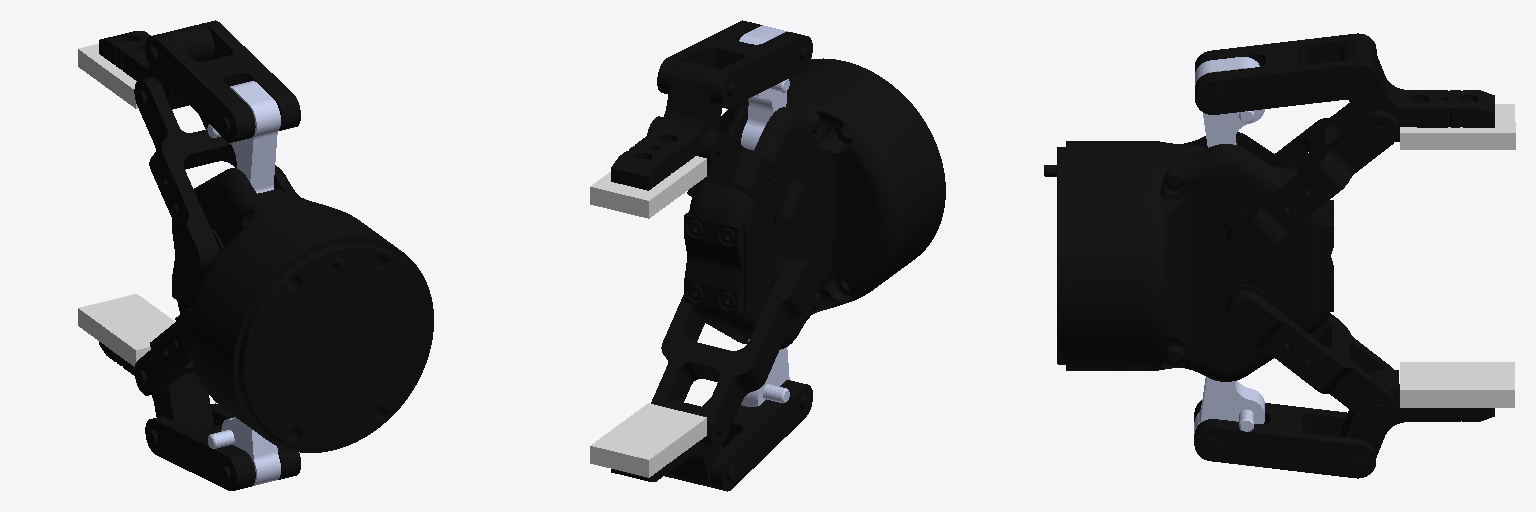
--- What the picture shows (computed from the rendered views, not written in the file) ---
3 views of the same robot in one strip: view 1: azimuth 30°, elevation 25°; view 2: azimuth 150°, elevation 25°; view 3: azimuth 270°, elevation 25° (orthographic).
Robot: ur5_robotiq — 23 links, 22 joints (12 revolute, 10 fixed); root link world; default pose: all joints at 0.
Visible links, largest first — view 1: robotiq_arg2f_base_link, left_outer_finger, left_inner_knuckle, right_outer_finger, right_inner_finger_pad, left_outer_knuckle, left_inner_finger, right_inner_knuckle, right_inner_finger, right_outer_knuckle, left_inner_finger_pad; view 2: robotiq_arg2f_base_link, right_inner_knuckle, left_outer_finger, left_inner_finger, left_inner_knuckle, right_inner_finger_pad, right_outer_finger, left_inner_finger_pad, right_inner_finger, left_outer_knuckle, right_outer_knuckle; view 3: robotiq_arg2f_base_link, left_inner_knuckle, left_outer_finger, right_inner_knuckle, right_outer_finger, left_inner_finger, right_inner_finger_pad, left_inner_finger_pad, right_inner_finger, right_outer_knuckle, left_outer_knuckle.
Link boxes in pixels (x1,y1,x2,y2): robotiq_arg2f_base_link: (172, 165, 433, 452); left_outer_finger: (145, 20, 300, 142); left_inner_knuckle: (134, 77, 236, 273); right_outer_finger: (145, 403, 300, 490); right_inner_finger_pad: (78, 294, 174, 366); left_outer_knuckle: (207, 81, 280, 193); left_inner_finger: (99, 24, 214, 109); right_inner_knuckle: (135, 308, 195, 395); right_inner_finger: (99, 342, 213, 429); right_outer_knuckle: (208, 417, 280, 485); left_inner_finger_pad: (78, 44, 137, 108); robotiq_arg2f_base_link: (684, 58, 945, 349); right_inner_knuckle: (651, 258, 816, 447); left_outer_finger: (657, 20, 812, 108); left_inner_finger: (611, 60, 721, 190); left_inner_knuckle: (647, 116, 816, 227); right_inner_finger_pad: (590, 403, 706, 477); right_outer_finger: (665, 380, 812, 491); left_inner_finger_pad: (590, 156, 706, 218); right_inner_finger: (611, 400, 723, 487); left_outer_knuckle: (739, 25, 789, 150); right_outer_knuckle: (741, 339, 789, 406); robotiq_arg2f_base_link: (1044, 132, 1333, 381); left_inner_knuckle: (1227, 103, 1397, 262); left_outer_finger: (1195, 33, 1376, 114); right_inner_knuckle: (1227, 290, 1397, 426); right_outer_finger: (1194, 400, 1375, 478); left_inner_finger: (1340, 40, 1494, 141); right_inner_finger_pad: (1400, 362, 1514, 407); left_inner_finger_pad: (1400, 104, 1515, 149); right_inner_finger: (1339, 370, 1494, 457); right_outer_knuckle: (1194, 377, 1264, 433); left_outer_knuckle: (1195, 57, 1264, 147).
Bounding box of the posed robot: 0.075 × 0.1531 × 0.1484 m (x, y, z).
Meshes: 12 distinct files referenced, 9 mesh visuals loaded (5 Collada DAE); not drawn: 7 (reference not matched to a file when rendering).

The robot description file, URDF, robot "ur5_robotiq":
<?xml version="1.0" encoding="utf-8"?>
<!-- =================================================================================== -->
<!-- |    This document was autogenerated by xacro from [local-path]/dynamic_grasping/updated/dynamic_grasping_ws/src/ur5_robotiq_meta_package/ur5_robotiq_description/urdf/ur5_robotiq.xacro | -->
<!-- |    EDITING THIS FILE BY HAND IS NOT RECOMMENDED                                 | -->
<!-- =================================================================================== -->
<robot name="ur5_robotiq">
  <!-- measured from model -->
  <link name="base_link">
    <visual>
      <origin rpy="0 0 3.14159265359" xyz="0 0 0"/>
      <geometry>
        <mesh filename="visual/base.dae"/>
      </geometry>
      <material name="LightGrey">
        <color rgba="0.7 0.7 0.7 1.0"/>
      </material>
    </visual>
    <collision>
      <origin rpy="0 0 3.14159265359" xyz="0 0 0"/>
      <geometry>
        <mesh filename="collision/base.stl"/>
      </geometry>
    </collision>
    <inertial>
      <mass value="4.0"/>
      <origin rpy="0 0 0" xyz="0.0 0.0 0.0"/>
      <inertia ixx="0.00443333156" ixy="0.0" ixz="0.0" iyy="0.00443333156" iyz="0.0" izz="0.0072"/>
    </inertial>
  </link>
  <joint name="shoulder_pan_joint" type="revolute">
    <parent link="base_link"/>
    <child link="shoulder_link"/>
    <origin rpy="0 0 3.14159265359" xyz="0 0 0.089159"/>
    <axis xyz="0 0 1"/>
<!--    <limit effort="150.0" lower="-6.28318530718" upper="6.28318530718" velocity="3.15"/>-->
    <limit effort="150.0" lower="1" upper="0" velocity="3.15"/>
    <dynamics damping="0.0" friction="0.0"/>
  </joint>
  <link name="shoulder_link">
    <visual>
      <origin rpy="0 0 3.14159265359" xyz="0 0 0"/>
      <geometry>
        <mesh filename="visual/shoulder.dae"/>
      </geometry>
      <material name="LightGrey">
        <color rgba="0.7 0.7 0.7 1.0"/>
      </material>
    </visual>
    <collision>
      <origin rpy="0 0 3.14159265359" xyz="0 0 0"/>
      <geometry>
        <mesh filename="collision/shoulder.stl"/>
      </geometry>
    </collision>
    <inertial>
      <mass value="3.7"/>
      <origin rpy="0 0 0" xyz="0.0 0.0 0.0"/>
      <inertia ixx="0.0149723523444" ixy="0.0" ixz="0.0" iyy="0.0149723523444" iyz="0.0" izz="0.01040625"/>
    </inertial>
  </link>
  <joint name="shoulder_lift_joint" type="revolute">
    <parent link="shoulder_link"/>
    <child link="upper_arm_link"/>
    <origin rpy="1.570796327 0 0" xyz="0 0 0"/>
    <axis xyz="0 0 1"/>
<!--    <limit effort="150.0" lower="-6.28318530718" upper="6.28318530718" velocity="3.15"/>-->
    <limit effort="150.0" lower="1" upper="0" velocity="3.15"/>
    <dynamics damping="0.0" friction="0.0"/>
  </joint>
  <link name="upper_arm_link">
    <visual>
      <origin rpy="1.57079632679 0 -1.57079632679" xyz="0 0 0.136"/>
      <geometry>
        <mesh filename="visual/upperarm.dae"/>
      </geometry>
      <material name="LightGrey">
        <color rgba="0.7 0.7 0.7 1.0"/>
      </material>
    </visual>
    <collision>
      <origin rpy="1.57079632679 0 -1.57079632679" xyz="0 0 0.136"/>
      <geometry>
        <mesh filename="collision/upperarm.stl"/>
      </geometry>
    </collision>
    <inertial>
      <mass value="8.393"/>
      <origin rpy="0 1.57079632679 0" xyz="-0.2125 0.0 0.136"/>
      <inertia ixx="0.133885781862" ixy="0.0" ixz="0.0" iyy="0.133885781862" iyz="0.0" izz="0.0151074"/>
    </inertial>
  </link>
  <joint name="elbow_joint" type="revolute">
    <parent link="upper_arm_link"/>
    <child link="forearm_link"/>
    <origin rpy="0 0 0" xyz="-0.425 0 0"/>
    <axis xyz="0 0 1"/>
<!--    <limit effort="150.0" lower="-3.14159265359" upper="3.14159265359" velocity="3.15"/>-->
    <limit effort="150.0" lower="1" upper="0" velocity="3.15"/>
    <dynamics damping="0.0" friction="0.0"/>
  </joint>
  <link name="forearm_link">
    <visual>
      <origin rpy="1.57079632679 0 -1.57079632679" xyz="0 0 0.0165"/>
      <geometry>
        <mesh filename="visual/forearm.dae"/>
      </geometry>
      <material name="LightGrey">
        <color rgba="0.7 0.7 0.7 1.0"/>
      </material>
    </visual>
    <collision>
      <origin rpy="1.57079632679 0 -1.57079632679" xyz="0 0 0.0165"/>
      <geometry>
        <mesh filename="collision/forearm.stl"/>
      </geometry>
    </collision>
    <inertial>
      <mass value="2.275"/>
      <origin rpy="0 1.57079632679 0" xyz="-0.2125 0.0 0.0165"/>
      <inertia ixx="0.0312167910289" ixy="0.0" ixz="0.0" iyy="0.0312167910289" iyz="0.0" izz="0.004095"/>
    </inertial>
  </link>
  <joint name="wrist_1_joint" type="revolute">
    <parent link="forearm_link"/>
    <child link="wrist_1_link"/>
    <origin rpy="0 0 0" xyz="-0.39225 0 0.10915"/>
    <axis xyz="0 0 1"/>
<!--    <limit effort="28.0" lower="-6.28318530718" upper="6.28318530718" velocity="3.2"/>-->
    <limit effort="28.0" lower="1" upper="0" velocity="3.2"/>
    <dynamics damping="0.0" friction="0.0"/>
  </joint>
  <link name="wrist_1_link">
    <visual>
      <origin rpy="1.57079632679 0 0" xyz="0 0 -0.093"/>
      <geometry>
        <mesh filename="visual/wrist1.dae"/>
      </geometry>
      <material name="LightGrey">
        <color rgba="0.7 0.7 0.7 1.0"/>
      </material>
    </visual>
    <collision>
      <origin rpy="1.57079632679 0 0" xyz="0 0 -0.093"/>
      <geometry>
        <mesh filename="collision/wrist1.stl"/>
      </geometry>
    </collision>
    <inertial>
      <mass value="1.219"/>
      <origin rpy="0 0 0" xyz="0.0 0.0 0.0"/>
      <inertia ixx="0.00262426443592" ixy="0.0" ixz="0.0" iyy="0.00262426443592" iyz="0.0" izz="0.0034284375"/>
    </inertial>
  </link>
  <joint name="wrist_2_joint" type="revolute">
    <parent link="wrist_1_link"/>
    <child link="wrist_2_link"/>
    <origin rpy="1.570796327 0 0" xyz="0 -0.09465 -1.9413039509e-11"/>
    <axis xyz="0 0 1"/>
<!--    <limit effort="28.0" lower="-6.28318530718" upper="6.28318530718" velocity="3.2"/>-->
    <limit effort="28.0" lower="1" upper="0" velocity="3.2"/>
    <dynamics damping="0.0" friction="0.0"/>
  </joint>
  <link name="wrist_2_link">
    <visual>
      <origin rpy="0 0 0" xyz="0 0 -0.095"/>
      <geometry>
        <mesh filename="visual/wrist2.dae"/>
      </geometry>
      <material name="LightGrey">
        <color rgba="0.7 0.7 0.7 1.0"/>
      </material>
    </visual>
    <collision>
      <origin rpy="0 0 0" xyz="0 0 -0.095"/>
      <geometry>
        <mesh filename="collision/wrist2.stl"/>
      </geometry>
    </collision>
    <inertial>
      <mass value="1.219"/>
      <origin rpy="0 0 0" xyz="0.0 0.0 0.0"/>
      <inertia ixx="0.00178515266177" ixy="0.0" ixz="0.0" iyy="0.00178515266177" iyz="0.0" izz="0.0021942"/>
    </inertial>
  </link>
  <joint name="wrist_3_joint" type="revolute">
    <parent link="wrist_2_link"/>
    <child link="wrist_3_link"/>
    <origin rpy="1.57079632659 3.14159265359 3.14159265359" xyz="0 0.0823 -1.68800121668e-11"/>
    <axis xyz="0 0 1"/>
<!--    <limit effort="28.0" lower="-6.28318530718" upper="6.28318530718" velocity="3.2"/>-->
    <limit effort="28.0" lower="1" upper="0" velocity="3.2"/>
    <dynamics damping="0.0" friction="0.0"/>
  </joint>
  <link name="wrist_3_link">
    <visual>
      <origin rpy="1.57079632679 0 0" xyz="0 0 -0.0818"/>
      <geometry>
        <mesh filename="visual/wrist3.dae"/>
      </geometry>
      <material name="LightGrey">
        <color rgba="0.7 0.7 0.7 1.0"/>
      </material>
    </visual>
    <collision>
      <origin rpy="1.57079632679 0 0" xyz="0 0 -0.0823"/>
      <geometry>
        <mesh filename="collision/wrist3.stl"/>
      </geometry>
    </collision>
    <inertial>
      <mass value="0.1879"/>
      <origin rpy="0 0 0" xyz="0.0 0.0 -0.01525"/>
      <inertia ixx="8.06247260834e-05" ixy="0.0" ixz="0.0" iyy="8.06247260834e-05" iyz="0.0" izz="0.0001321171875"/>
    </inertial>
  </link>
  <joint name="ee_fixed_joint" type="fixed">
    <parent link="wrist_3_link"/>
    <child link="ee_link"/>
    <origin rpy="0.0 -1.57079632679 1.57079632679" xyz="0.0 0.0 0.0"/>
  </joint>
  <link name="ee_link">
    <collision>
      <geometry>
        <box size="0.01 0.01 0.01"/>
      </geometry>
      <origin rpy="0 0 0" xyz="-0.01 0 0"/>
    </collision>
  </link>
  <joint name="wrist_3_passive_joint" type="fixed">
    <origin rpy="0 0 0" xyz="0 0 0"/>
    <parent link="wrist_3_link"/>
    <child link="tool0"/>
  </joint>
  <transmission name="shoulder_pan_trans">
    <type>transmission_interface/SimpleTransmission</type>
    <joint name="shoulder_pan_joint">
      <hardwareInterface>hardware_interface/PositionJointInterface</hardwareInterface>
    </joint>
    <actuator name="shoulder_pan_motor">
      <mechanicalReduction>1</mechanicalReduction>
    </actuator>
  </transmission>
  <transmission name="shoulder_lift_trans">
    <type>transmission_interface/SimpleTransmission</type>
    <joint name="shoulder_lift_joint">
      <hardwareInterface>hardware_interface/PositionJointInterface</hardwareInterface>
    </joint>
    <actuator name="shoulder_lift_motor">
      <mechanicalReduction>1</mechanicalReduction>
    </actuator>
  </transmission>
  <transmission name="elbow_trans">
    <type>transmission_interface/SimpleTransmission</type>
    <joint name="elbow_joint">
      <hardwareInterface>hardware_interface/PositionJointInterface</hardwareInterface>
    </joint>
    <actuator name="elbow_motor">
      <mechanicalReduction>1</mechanicalReduction>
    </actuator>
  </transmission>
  <transmission name="wrist_1_trans">
    <type>transmission_interface/SimpleTransmission</type>
    <joint name="wrist_1_joint">
      <hardwareInterface>hardware_interface/PositionJointInterface</hardwareInterface>
    </joint>
    <actuator name="wrist_1_motor">
      <mechanicalReduction>1</mechanicalReduction>
    </actuator>
  </transmission>
  <transmission name="wrist_2_trans">
    <type>transmission_interface/SimpleTransmission</type>
    <joint name="wrist_2_joint">
      <hardwareInterface>hardware_interface/PositionJointInterface</hardwareInterface>
    </joint>
    <actuator name="wrist_2_motor">
      <mechanicalReduction>1</mechanicalReduction>
    </actuator>
  </transmission>
  <transmission name="wrist_3_trans">
    <type>transmission_interface/SimpleTransmission</type>
    <joint name="wrist_3_joint">
      <hardwareInterface>hardware_interface/PositionJointInterface</hardwareInterface>
    </joint>
    <actuator name="wrist_3_motor">
      <mechanicalReduction>1</mechanicalReduction>
    </actuator>
  </transmission>
  <gazebo reference="shoulder_link">
    <selfCollide>true</selfCollide>
  </gazebo>
  <gazebo reference="upper_arm_link">
    <selfCollide>true</selfCollide>
  </gazebo>
  <gazebo reference="forearm_link">
    <selfCollide>true</selfCollide>
  </gazebo>
  <gazebo reference="wrist_1_link">
    <selfCollide>true</selfCollide>
  </gazebo>
  <gazebo reference="wrist_3_link">
    <selfCollide>true</selfCollide>
  </gazebo>
  <gazebo reference="wrist_2_link">
    <selfCollide>true</selfCollide>
  </gazebo>
  <gazebo reference="ee_link">
    <selfCollide>true</selfCollide>
  </gazebo>
  <!-- ROS base_link to UR 'Base' Coordinates transform -->
  <link name="base"/>
  <joint name="base_link-base_fixed_joint" type="fixed">
    <!-- NOTE: this rotation is only needed as long as base_link itself is
                 not corrected wrt the real robot (ie: rotated over 180
                 degrees)
      -->
    <origin rpy="0 0 -3.14159265359" xyz="0 0 0"/>
    <parent link="base_link"/>
    <child link="base"/>
  </joint>
  <!-- Frame coincident with all-zeros TCP on UR controller -->
  <link name="tool0"/>
  <link name="world"/>
  <joint name="world_joint" type="fixed">
    <parent link="world"/>
    <child link="base_link"/>
    <origin rpy="0.0 0.0 0.0" xyz="0.0 0.0 0.0"/>
  </joint>
  <link name="robotiq_arg2f_base_link">
    <inertial>
      <origin rpy="0 0 0" xyz="8.625E-08 -4.6583E-06 0.03145"/>
      <mass value="0.22652"/>
      <inertia ixx="0.00020005" ixy="-4.2442E-10" ixz="-2.9069E-10" iyy="0.00017832" iyz="-3.4402E-08" izz="0.00013478"/>
    </inertial>
    <visual>
      <origin rpy="0 0 0" xyz="0 0 0"/>
      <geometry>
        <mesh filename="gripper/meshes/visual/robotiq_arg2f_85_base_link.dae" scale="0.001 0.001 0.001"/>
      </geometry>
      <material name="">
        <color rgba="0.1 0.1 0.1 1"/>
      </material>
    </visual>
    <collision>
      <origin rpy="0 0 0" xyz="0 0 0"/>
      <geometry>
        <mesh filename="gripper/meshes/collision/robotiq_arg2f_base_link.stl"/>
      </geometry>
    </collision>
  </link>
  <link name="left_outer_knuckle">
    <!--<inertial>
        <origin xyz="-0.000200000000003065 0.0199435877845359 0.0292245259211331" rpy="0 0 0" />
        <mass value="0.00853198276973456" />
        <inertia ixx="2.89328108496468E-06" ixy="-1.57935047237397E-19" ixz="-1.93980378593255E-19" iyy="1.86719750325683E-06" iyz="-1.21858577871576E-06" izz="1.21905238907251E-06" />
        </inertial> -->
    <visual>
      <origin rpy="0 0 0" xyz="0 0 0"/>
      <geometry>
        <mesh filename="gripper/meshes/visual/robotiq_arg2f_85_outer_knuckle.dae" scale="0.001 0.001 0.001"/>
      </geometry>
      <material name="">
        <color rgba="0.792156862745098 0.819607843137255 0.933333333333333 1"/>
      </material>
    </visual>
    <collision>
      <origin rpy="0 0 0" xyz="0 0 0"/>
      <geometry>
        <mesh filename="gripper/meshes/collision/robotiq_arg2f_85_outer_knuckle.dae" scale="0.001 0.001 0.001"/>
      </geometry>
    </collision>
  </link>
  <link name="left_outer_finger">
    <!--<inertial>
        <origin xyz="0.00030115855001899 0.0373907951953854 -0.0208027427000385" rpy="0 0 0" />
        <mass value="0.022614240507152" />
        <inertia ixx="1.52518312458174E-05" ixy="9.76583423954399E-10" ixz="-5.43838577022588E-10" iyy="6.17694243867776E-06" iyz="6.78636130740228E-06" izz="1.16494917907219E-05" />
        </inertial> -->
    <visual>
      <origin rpy="0 0 0" xyz="0 0 0"/>
      <geometry>
        <mesh filename="gripper/meshes/visual/robotiq_arg2f_85_outer_finger.dae" scale="0.001 0.001 0.001"/>
      </geometry>
      <material name="">
        <color rgba="0.1 0.1 0.1 1"/>
      </material>
    </visual>
    <collision>
      <origin rpy="0 0 0" xyz="0 0 0"/>
      <geometry>
        <mesh filename="gripper/meshes/collision/robotiq_arg2f_85_outer_finger.dae" scale="0.001 0.001 0.001"/>
      </geometry>
    </collision>
  </link>
  <link name="left_inner_finger">
    <!--<inertial>
        <origin xyz="0.000299999999999317 0.0160078233491243 -0.0136945669206257" rpy="0 0 0" />
        <mass value="0.0104003125914103" />
        <inertia ixx="2.71909453810972E-06" ixy="1.35402465472579E-21" ixz="-7.1817349065269E-22" iyy="7.69100314106116E-07" iyz="6.74715432769696E-07" izz="2.30315190420171E-06" />
        </inertial> -->
    <visual>
      <origin rpy="0 0 0" xyz="0 0 0"/>
      <geometry>
        <mesh filename="gripper/meshes/visual/robotiq_arg2f_85_inner_finger.dae" scale="0.001 0.001 0.001"/>
      </geometry>
      <material name="">
        <color rgba="0.1 0.1 0.1 1"/>
      </material>
    </visual>
    <collision>
      <origin rpy="0 0 0" xyz="0 0 0"/>
      <geometry>
        <mesh filename="gripper/meshes/collision/robotiq_arg2f_85_inner_finger.dae" scale="0.001 0.001 0.001"/>
      </geometry>
    </collision>
  </link>
  <link name="left_inner_finger_pad">
    <visual>
      <origin rpy="0 0 0" xyz="0 0 0"/>
      <geometry>
        <box size="0.022 0.00635 0.0375"/>
      </geometry>
      <material name="">
        <color rgba="0.9 0.9 0.9 1"/>
      </material>
    </visual>
    <collision>
      <origin rpy="0 0 0" xyz="0 0 0"/>
      <geometry>
        <box size="0.022 0.00635 0.0375"/>
      </geometry>
      <material name="">
        <color rgba="0.9 0.0 0.0 1"/>
      </material>
    </collision>
  </link>
  <link name="left_inner_knuckle">
    <!--<inertial>
        <origin xyz="0.000123011831763771 0.0507850843201817 0.00103968640075166" rpy="0 0 0" />
       <mass value="0.0271177346495152" />
        <inertia ixx="2.61910379223783E-05" ixy="-2.43616858946494E-07" ixz="-6.37789906117123E-09" iyy="2.8270243746167E-06" iyz="-5.37200748039765E-07" izz="2.83695868220296E-05" />
        </inertial> -->
    <visual>
      <origin rpy="0 0 0" xyz="0 0 0"/>
      <geometry>
        <mesh filename="gripper/meshes/visual/robotiq_arg2f_85_inner_knuckle.dae" scale="0.001 0.001 0.001"/>
      </geometry>
      <material name="">
        <color rgba="0.1 0.1 0.1 1"/>
      </material>
    </visual>
    <collision>
      <origin rpy="0 0 0" xyz="0 0 0"/>
      <geometry>
        <mesh filename="gripper/meshes/collision/robotiq_arg2f_85_inner_knuckle.dae" scale="0.001 0.001 0.001"/>
      </geometry>
    </collision>
  </link>
  <link name="right_outer_knuckle">
    <!--<inertial>
        <origin xyz="-0.000200000000003065 0.0199435877845359 0.0292245259211331" rpy="0 0 0" />
        <mass value="0.00853198276973456" />
        <inertia ixx="2.89328108496468E-06" ixy="-1.57935047237397E-19" ixz="-1.93980378593255E-19" iyy="1.86719750325683E-06" iyz="-1.21858577871576E-06" izz="1.21905238907251E-06" />
        </inertial> -->
    <visual>
      <origin rpy="0 0 0" xyz="0 0 0"/>
      <geometry>
        <mesh filename="gripper/meshes/visual/robotiq_arg2f_85_outer_knuckle.dae" scale="0.001 0.001 0.001"/>
      </geometry>
      <material name="">
        <color rgba="0.792156862745098 0.819607843137255 0.933333333333333 1"/>
      </material>
    </visual>
    <collision>
      <origin rpy="0 0 0" xyz="0 0 0"/>
      <geometry>
        <mesh filename="gripper/meshes/collision/robotiq_arg2f_85_outer_knuckle.dae" scale="0.001 0.001 0.001"/>
      </geometry>
    </collision>
  </link>
  <link name="right_outer_finger">
    <!--<inertial>
        <origin xyz="0.00030115855001899 0.0373907951953854 -0.0208027427000385" rpy="0 0 0" />
        <mass value="0.022614240507152" />
        <inertia ixx="1.52518312458174E-05" ixy="9.76583423954399E-10" ixz="-5.43838577022588E-10" iyy="6.17694243867776E-06" iyz="6.78636130740228E-06" izz="1.16494917907219E-05" />
        </inertial> -->
    <visual>
      <origin rpy="0 0 0" xyz="0 0 0"/>
      <geometry>
        <mesh filename="gripper/meshes/visual/robotiq_arg2f_85_outer_finger.dae" scale="0.001 0.001 0.001"/>
      </geometry>
      <material name="">
        <color rgba="0.1 0.1 0.1 1"/>
      </material>
    </visual>
    <collision>
      <origin rpy="0 0 0" xyz="0 0 0"/>
      <geometry>
        <mesh filename="gripper/meshes/collision/robotiq_arg2f_85_outer_finger.dae" scale="0.001 0.001 0.001"/>
      </geometry>
    </collision>
  </link>
  <link name="right_inner_finger">
    <!--<inertial>
        <origin xyz="0.000299999999999317 0.0160078233491243 -0.0136945669206257" rpy="0 0 0" />
        <mass value="0.0104003125914103" />
        <inertia ixx="2.71909453810972E-06" ixy="1.35402465472579E-21" ixz="-7.1817349065269E-22" iyy="7.69100314106116E-07" iyz="6.74715432769696E-07" izz="2.30315190420171E-06" />
        </inertial> -->
    <visual>
      <origin rpy="0 0 0" xyz="0 0 0"/>
      <geometry>
        <mesh filename="gripper/meshes/visual/robotiq_arg2f_85_inner_finger.dae" scale="0.001 0.001 0.001"/>
      </geometry>
      <material name="">
        <color rgba="0.1 0.1 0.1 1"/>
      </material>
    </visual>
    <collision>
      <origin rpy="0 0 0" xyz="0 0 0"/>
      <geometry>
        <mesh filename="gripper/meshes/collision/robotiq_arg2f_85_inner_finger.dae" scale="0.001 0.001 0.001"/>
      </geometry>
    </collision>
  </link>
  <link name="right_inner_finger_pad">
    <visual>
      <origin rpy="0 0 0" xyz="0 0 0"/>
      <geometry>
        <box size="0.022 0.00635 0.0375"/>
      </geometry>
      <material name="">
        <color rgba="0.9 0.9 0.9 1"/>
      </material>
    </visual>
    <collision>
      <origin rpy="0 0 0" xyz="0 0 0"/>
      <geometry>
        <box size="0.022 0.00635 0.0375"/>
      </geometry>
      <material name="">
        <color rgba="0.9 0.0 0.0 1"/>
      </material>
    </collision>
  </link>
  <link name="right_inner_knuckle">
    <!--<inertial>
        <origin xyz="0.000123011831763771 0.0507850843201817 0.00103968640075166" rpy="0 0 0" />
       <mass value="0.0271177346495152" />
        <inertia ixx="2.61910379223783E-05" ixy="-2.43616858946494E-07" ixz="-6.37789906117123E-09" iyy="2.8270243746167E-06" iyz="-5.37200748039765E-07" izz="2.83695868220296E-05" />
        </inertial> -->
    <visual>
      <origin rpy="0 0 0" xyz="0 0 0"/>
      <geometry>
        <mesh filename="gripper/meshes/visual/robotiq_arg2f_85_inner_knuckle.dae" scale="0.001 0.001 0.001"/>
      </geometry>
      <material name="">
        <color rgba="0.1 0.1 0.1 1"/>
      </material>
    </visual>
    <collision>
      <origin rpy="0 0 0" xyz="0 0 0"/>
      <geometry>
        <mesh filename="gripper/meshes/collision/robotiq_arg2f_85_inner_knuckle.dae" scale="0.001 0.001 0.001"/>
      </geometry>
    </collision>
  </link>
  <joint name="finger_joint" type="revolute">
    <origin rpy="0 0 3.14159265359" xyz="0 -0.0306011 0.054904"/>
    <parent link="robotiq_arg2f_base_link"/>
    <child link="left_outer_knuckle"/>
    <axis xyz="1 0 0"/>
    <limit effort="200" lower="0" upper="0.8" velocity="2.0"/>
  </joint>
  <joint name="left_outer_finger_joint" type="fixed">
    <origin rpy="0 0 0" xyz="0 0.0315 -0.0041"/>
    <parent link="left_outer_knuckle"/>
    <child link="left_outer_finger"/>
    <axis xyz="1 0 0"/>
  </joint>
  <joint name="left_inner_knuckle_joint" type="revolute">
    <!-- <origin xyz="0 ${reflect * -0.0127} 0.06142" rpy="${pi / 2 + .725} 0 ${(reflect - 1) * pi / 2}" /> -->
    <origin rpy="0 0 3.14159265359" xyz="0 -0.0127 0.06142"/>
    <parent link="robotiq_arg2f_base_link"/>
    <child link="left_inner_knuckle"/>
    <axis xyz="1 0 0"/>
    <limit effort="200" lower="0" upper="0.8757" velocity="2.0"/>
    <mimic joint="finger_joint" multiplier="1" offset="0"/>
  </joint>
  <joint name="left_inner_finger_joint" type="revolute">
    <origin rpy="0 0 0" xyz="0 0.0061 0.0471"/>
    <parent link="left_outer_finger"/>
    <child link="left_inner_finger"/>
    <axis xyz="1 0 0"/>
    <limit effort="200" lower="-0.8757" upper="0" velocity="2.0"/>
    <mimic joint="finger_joint" multiplier="-1" offset="0"/>
  </joint>
  <joint name="left_inner_finger_pad_joint" type="fixed">
    <origin rpy="0 0 0" xyz="0 -0.0220203446692936 0.03242"/>
    <parent link="left_inner_finger"/>
    <child link="left_inner_finger_pad"/>
    <axis xyz="0 0 1"/>
  </joint>
  <joint name="right_outer_knuckle_joint" type="revolute">
    <origin rpy="0 0 0" xyz="0 0.0306011 0.054904"/>
    <parent link="robotiq_arg2f_base_link"/>
    <child link="right_outer_knuckle"/>
    <axis xyz="1 0 0"/>
    <limit effort="200" lower="0" upper="0.81" velocity="2.0"/>
    <mimic joint="finger_joint" multiplier="1" offset="0"/>
  </joint>
  <joint name="right_outer_finger_joint" type="fixed">
    <origin rpy="0 0 0" xyz="0 0.0315 -0.0041"/>
    <parent link="right_outer_knuckle"/>
    <child link="right_outer_finger"/>
    <axis xyz="1 0 0"/>
  </joint>
  <joint name="right_inner_knuckle_joint" type="revolute">
    <!-- <origin xyz="0 ${reflect * -0.0127} 0.06142" rpy="${pi / 2 + .725} 0 ${(reflect - 1) * pi / 2}" /> -->
    <origin rpy="0 0 0.0" xyz="0 0.0127 0.06142"/>
    <parent link="robotiq_arg2f_base_link"/>
    <child link="right_inner_knuckle"/>
    <axis xyz="1 0 0"/>
    <limit effort="200" lower="0" upper="0.8757" velocity="2.0"/>
    <mimic joint="finger_joint" multiplier="1" offset="0"/>
  </joint>
  <joint name="right_inner_finger_joint" type="revolute">
    <origin rpy="0 0 0" xyz="0 0.0061 0.0471"/>
    <parent link="right_outer_finger"/>
    <child link="right_inner_finger"/>
    <axis xyz="1 0 0"/>
    <limit effort="200" lower="-0.8757" upper="0" velocity="2.0"/>
    <mimic joint="finger_joint" multiplier="-1" offset="0"/>
  </joint>
  <joint name="right_inner_finger_pad_joint" type="fixed">
    <origin rpy="0 0 0" xyz="0 -0.0220203446692936 0.03242"/>
    <parent link="right_inner_finger"/>
    <child link="right_inner_finger_pad"/>
    <axis xyz="0 0 1"/>
  </joint>
  <transmission name="finger_joint_trans">
    <type>transmission_interface/SimpleTransmission</type>
    <joint name="finger_joint">
      <hardwareInterface>PositionJointInterface</hardwareInterface>
    </joint>
    <actuator name="finger_joint_motor">
      <mechanicalReduction>1</mechanicalReduction>
    </actuator>
  </transmission>
  <joint name="ee_robotiq_joint" type="fixed">
    <parent link="ee_link"/>
    <child link="robotiq_arg2f_base_link"/>
    <origin rpy="1.57 0.0 1.57" xyz="0.0 0.0 0.0"/>
    <!-- <origin xyz="0.0 0.0 0.0" rpy="0.0 1.57 0.0" /> -->
  </joint>
  <!-- GraspIt! reference frame is slight offset from b_hand_base_link -->
  <joint name="graspit_joint" type="fixed">
    <parent link="ee_link"/>
    <child link="graspit_link"/>
    <origin rpy="1.57 0.0 0.0" xyz="0.0 0.0 0.0"/>
  </joint>
  <link name="graspit_link"/>
</robot>
